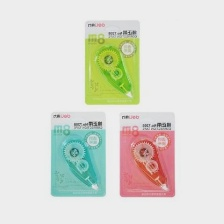book: (116, 110, 177, 199), (48, 109, 108, 198), (82, 19, 142, 105)
correction_fluid: (92, 43, 135, 99), (130, 137, 171, 192), (60, 137, 101, 192)
